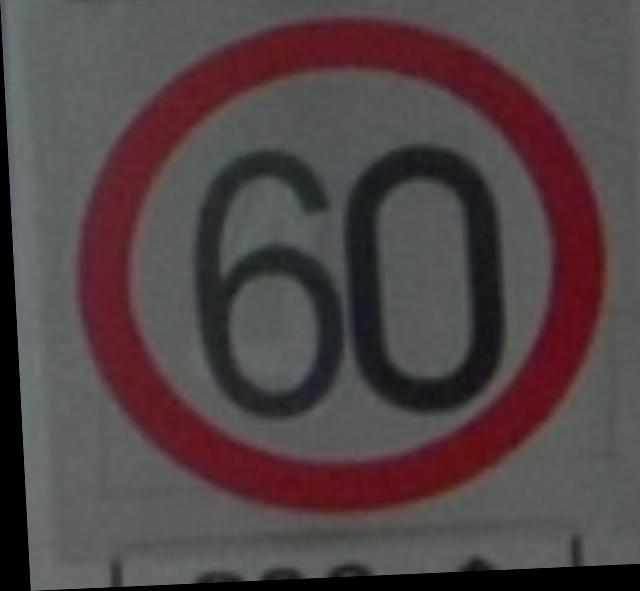limit60: (50, 1, 624, 526)
